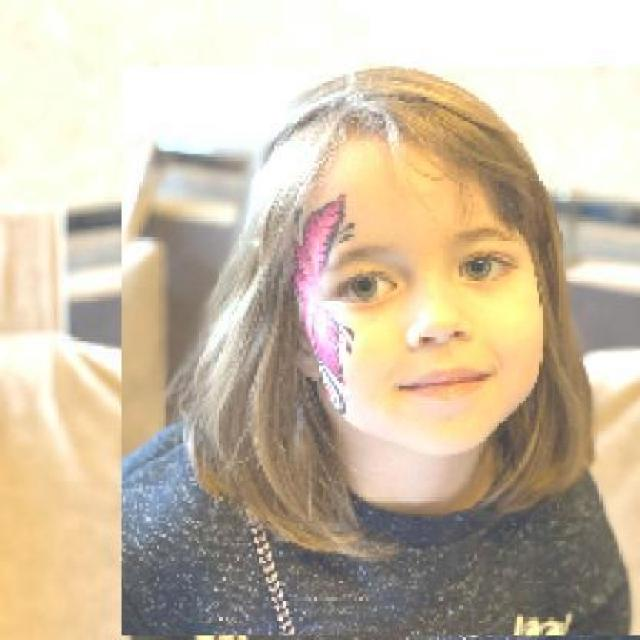child: (120, 66, 640, 637)
